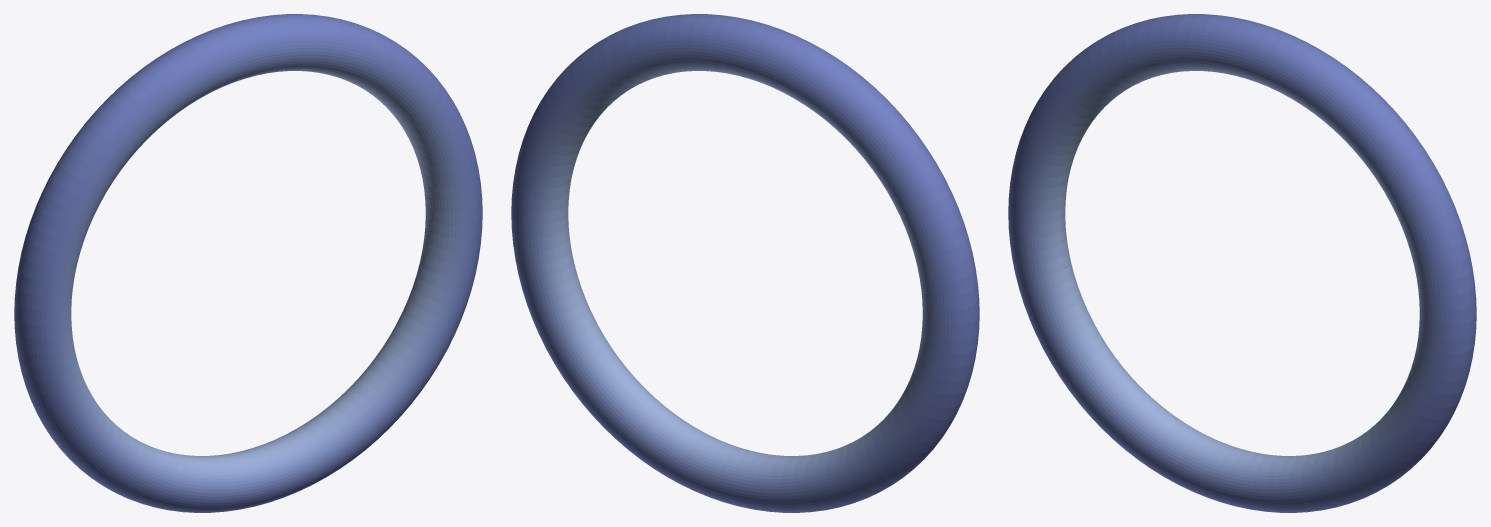
3 renders of one model, left to right at view 1: azimuth 30°, elevation 25°; view 2: azimuth 150°, elevation 25°; view 3: azimuth 330°, elevation 25°, orthographic.
Visible parts, largest first — view 1: world; view 2: world; view 3: world.
Boxes of the visible parts, x1,y1,x2,y2 form: world: [14, 14, 482, 512]; world: [511, 14, 979, 512]; world: [1008, 14, 1476, 512].
Size of the model in its own units: 26.13 by 26.13 by 2.79.
